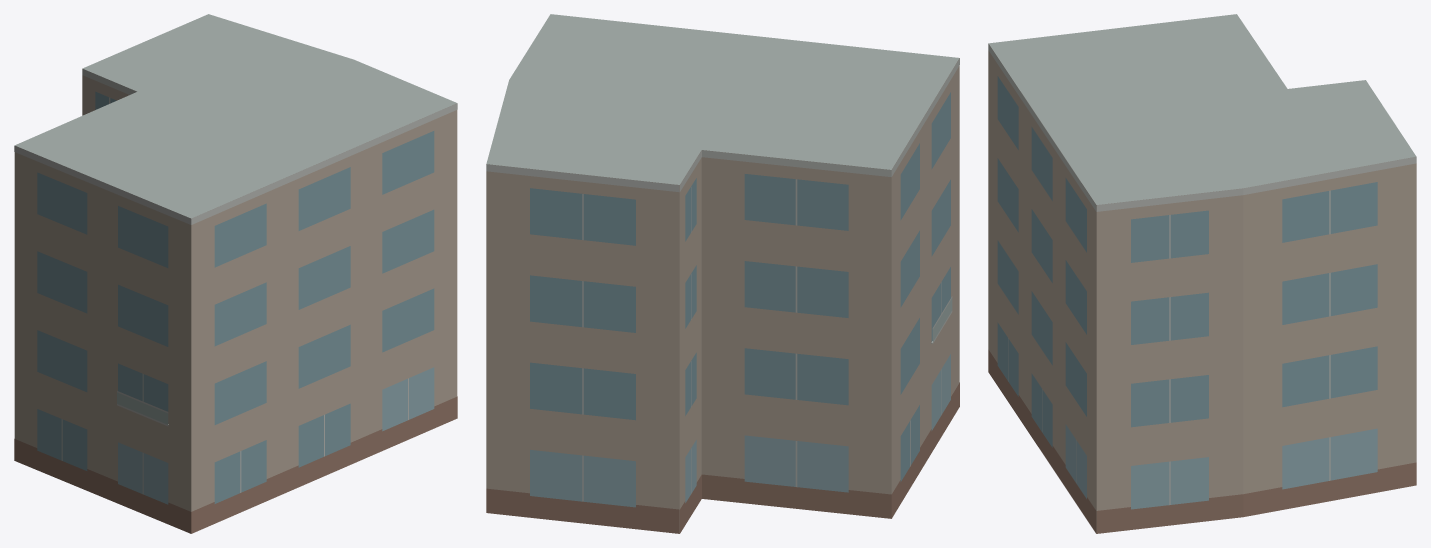
File: survey-upis-32873375.glb
3 renders of one model, left to right at view 1: azimuth 30°, elevation 25°; view 2: azimuth 150°, elevation 25°; view 3: azimuth 270°, elevation 25°, orthographic. The views are drawn at different scales.
Parts seen in each view (by area): view 1: survey-upis-32873375.tmp; view 2: survey-upis-32873375.tmp; view 3: survey-upis-32873375.tmp.
Boxes of the visible parts, x1,y1,x2,y2 form: survey-upis-32873375.tmp: [14, 14, 457, 533]; survey-upis-32873375.tmp: [486, 14, 959, 533]; survey-upis-32873375.tmp: [988, 14, 1416, 533].
Size of the model in its own units: 14.66 by 11.75 by 13.88.
